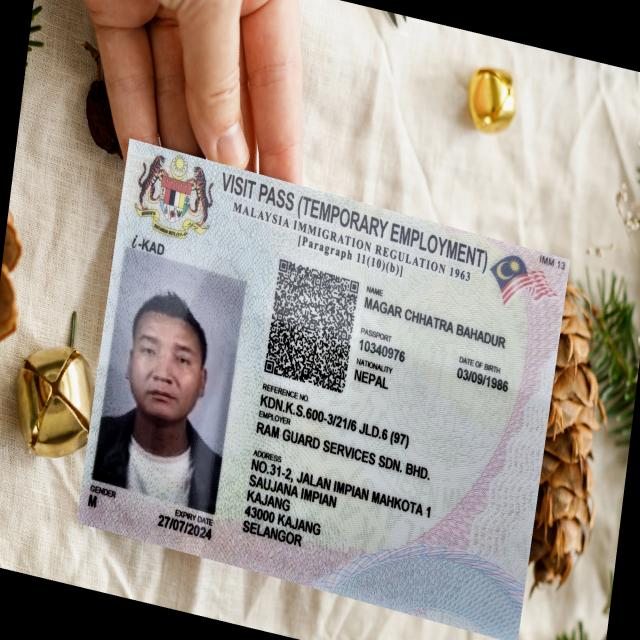ikad-temp: (75, 137, 570, 638)
